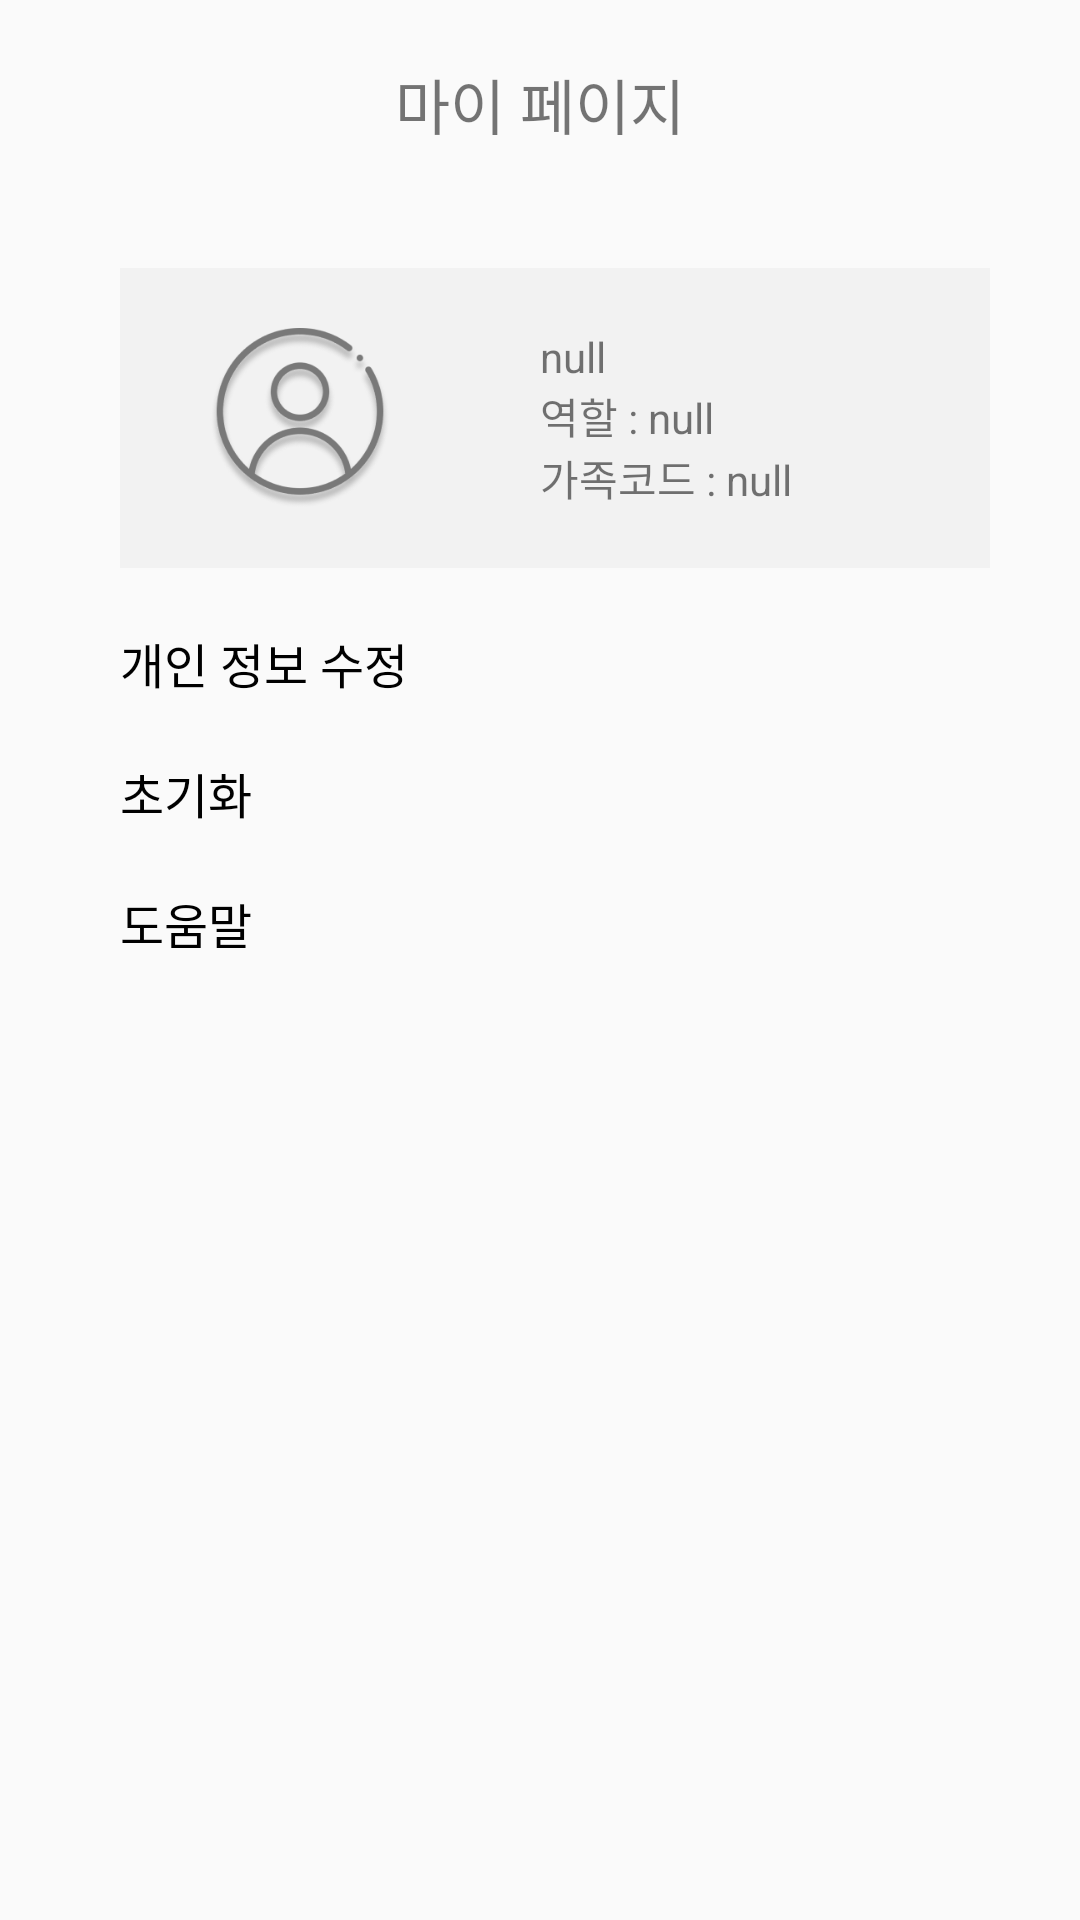

Locate icon controls on the screen. Image size 1080*1920, boxes as bbox=(x1, y1, x2, y2).
login people: bbox=(216, 328, 384, 502)
